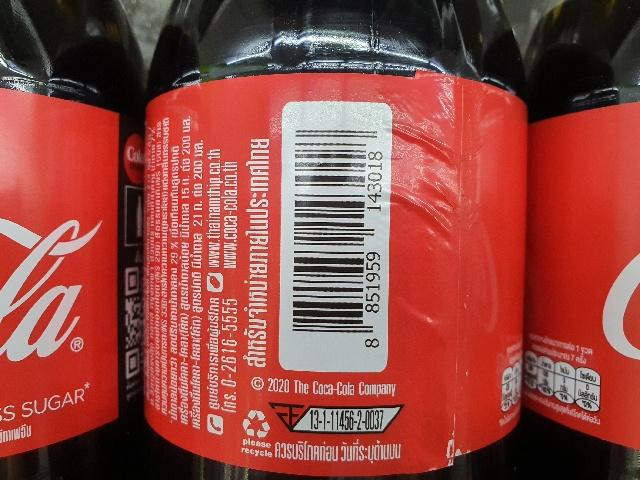Barcode: (288, 121, 387, 355)
